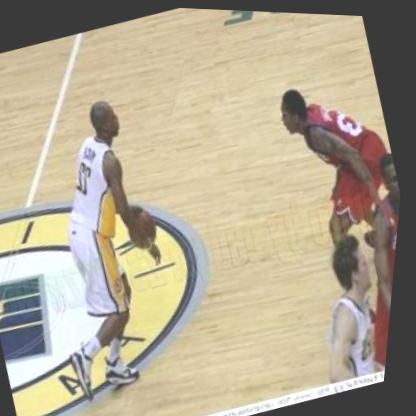basketball: (116, 194, 172, 260)
